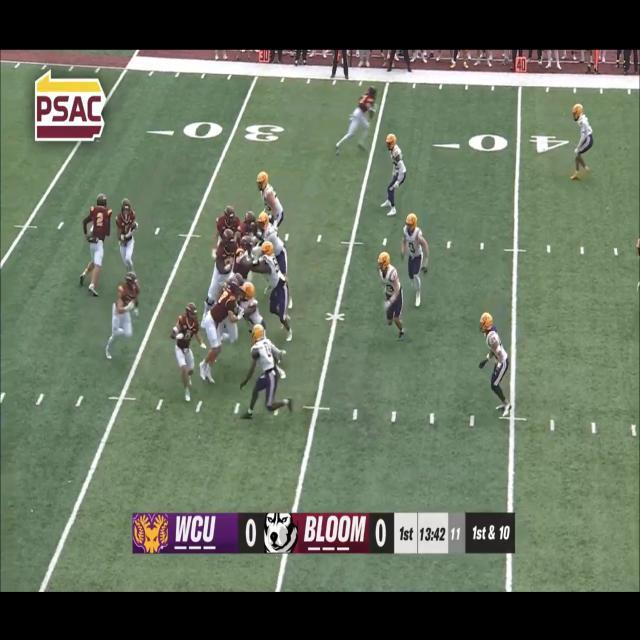football: (129, 221, 138, 235)
